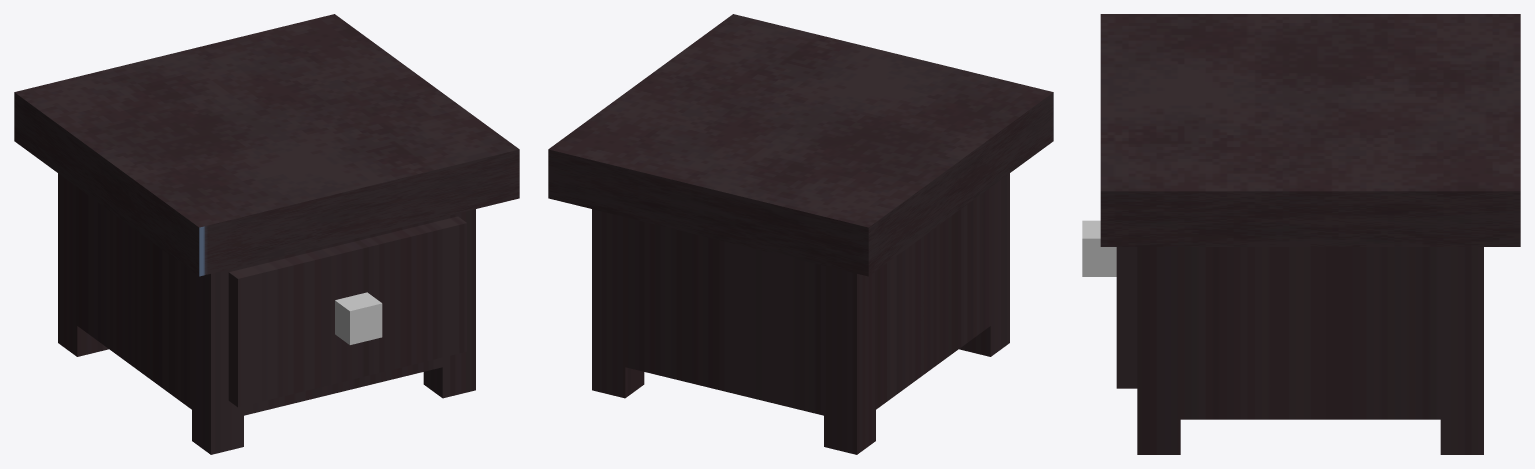
The model's file is prop_drawer.obj.
The picture shows the model from 3 angles, left to right: view 1: azimuth 30°, elevation 25°; view 2: azimuth 150°, elevation 25°; view 3: azimuth 270°, elevation 25°; orthographic projection. The views are drawn at different scales.
Visible parts, largest first — view 1: Drawer; view 2: Drawer; view 3: Drawer.
Boxes of the visible parts, left/top/right/bottom form: Drawer: left=14, top=14, right=519, bottom=454; Drawer: left=548, top=14, right=1053, bottom=454; Drawer: left=1082, top=14, right=1520, bottom=454.
Bounding box in the file's own units: 2 × 1.47 × 2.09.
